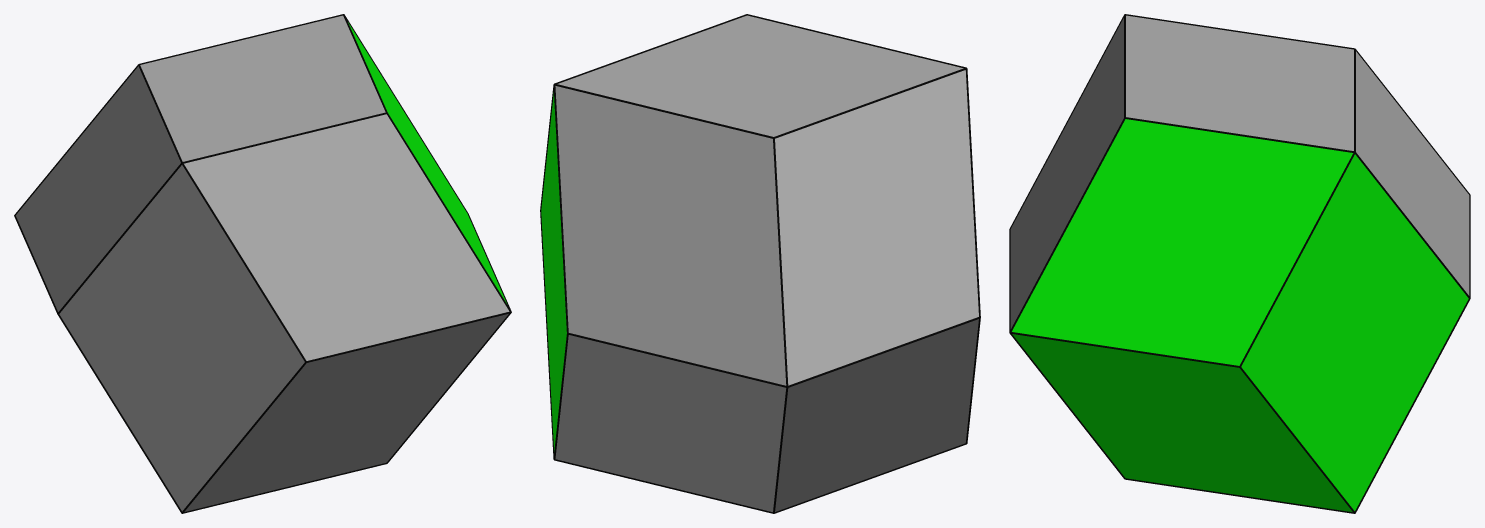
File: RhombicDodecahedron3_2.glb
3 renders of one model, left to right at view 1: azimuth 30°, elevation 25°; view 2: azimuth 150°, elevation 25°; view 3: azimuth 270°, elevation 25°, orthographic. The views are drawn at different scales.
Size of the model in its own units: 1.84 by 1.51 by 1.74.
